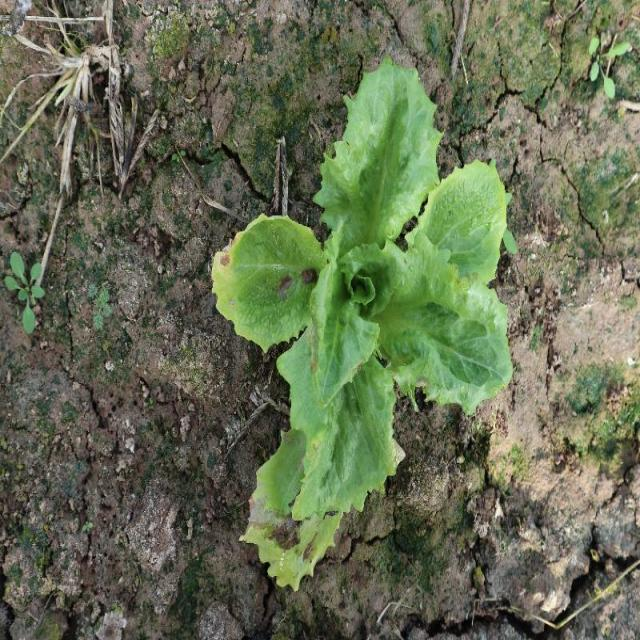crop: (208, 64, 511, 514)
